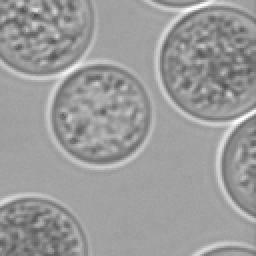picoshell: (154, 0, 254, 124), (44, 58, 154, 170), (0, 194, 90, 254), (214, 108, 254, 222), (192, 240, 254, 254), (142, 0, 206, 10)
